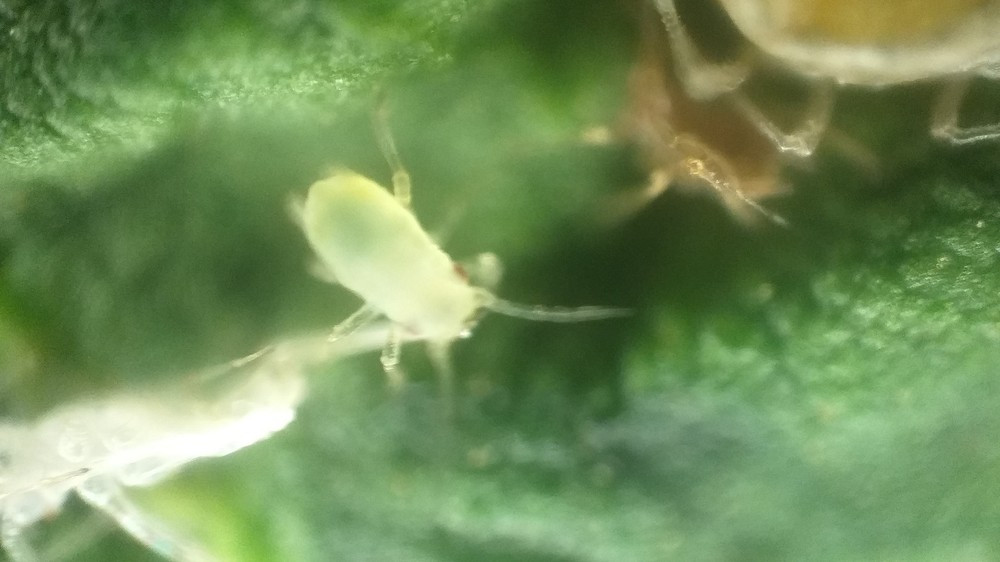Pulgon: (239, 115, 632, 429)
